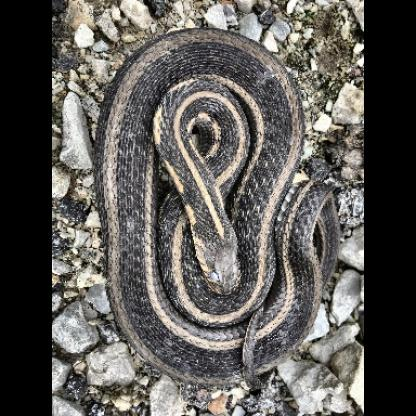Snake: (94, 26, 343, 389)
